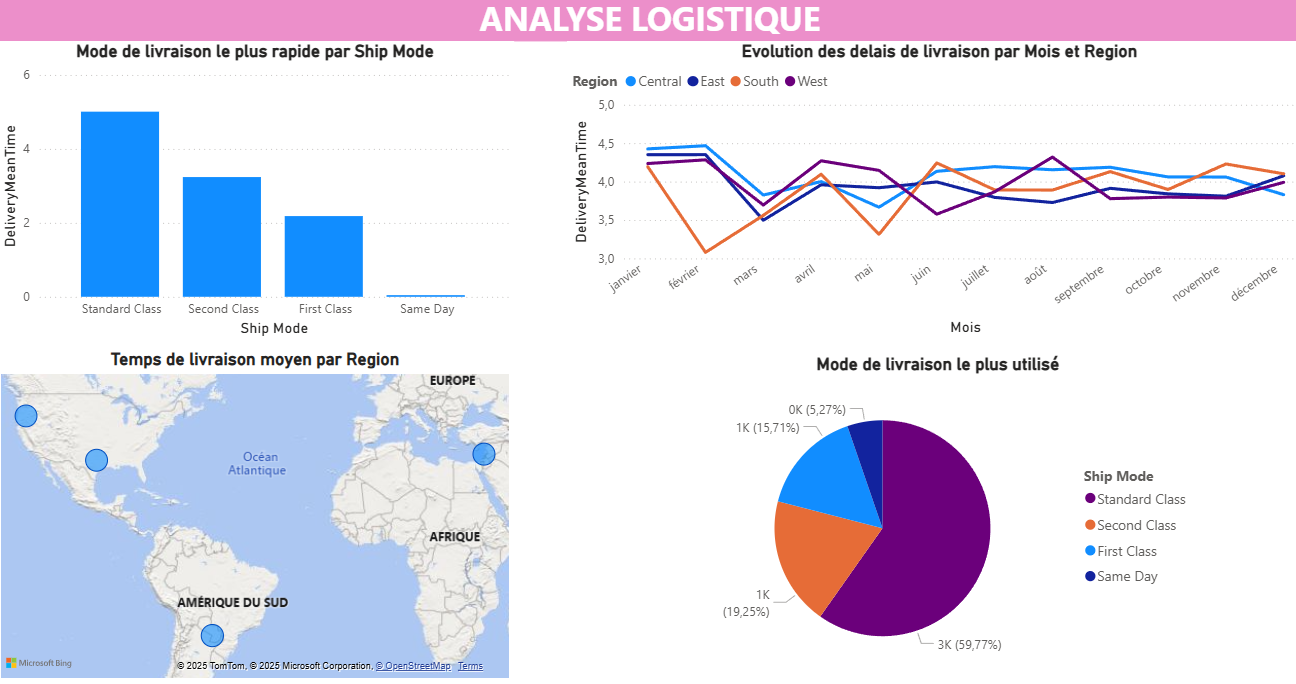

What the dashboard file says about the page in this screenshot:
{"tool":"powerbi","page":{"name":"Logistique1","canvas":[1280,720],"ordinal":5},"visuals":[{"type":"textbox","box":[0,0,1280,49.6],"z":0},{"type":"clusteredColumnChart","title":"Mode de livraison le plus rapide par Ship Mode","fields":{"Y":["DAX.DeliveryMeanTime"],"Category":["Orders.Ship Mode"]},"box":[0,49.6,503.8,291.8],"z":1},{"type":"map","title":"Temps de livraison moyen  par Region","fields":{"Size":["DAX.DeliveryMeanTime"],"Category":["People.Region"]},"box":[0,349.2,503.8,324.9],"z":2},{"type":"pieChart","title":"Mode de livraison le plus utilisé","fields":{"Category":["Orders.Ship Mode"],"Y":["DAX.TotalOrder"]},"box":[661.4,354,509.7,320],"z":3},{"type":"lineChart","title":"Evolution des delais de livraison par Mois et Region","fields":{"Category":["Orders.Ship Date.Variation.Hiérarchie de dates.Année","Orders.Ship Date.Variation.Hiérarchie de dates.Trimestre","Orders.Ship Date.Variation.Hiérarchie de dates.Mois","Orders.Ship Date.Variation.Hiérarchie de dates.Jour"],"Series":["Orders.Geographie.Region"],"Y":["DAX.DeliveryMeanTime"]},"box":[555.4,49.6,724.6,291.8],"z":4},{"type":"pageNavigator","box":[0,681.8,1280,37.9],"z":5}]}

Visuals, with their boxes on the page's 1280x720 design canvas (x1, y1, x2, y2). These are canvas units, not pixel positions in the 1296x684 screenshot, which may show the page scaled, cropped or inside an application window:
textbox: x1=0, y1=0, x2=1280, y2=50
"Mode de livraison le plus rapide par Ship Mode" clusteredColumnChart: x1=0, y1=50, x2=504, y2=341
"Temps de livraison moyen  par Region" map: x1=0, y1=349, x2=504, y2=674
"Mode de livraison le plus utilisé" pieChart: x1=661, y1=354, x2=1171, y2=674
"Evolution des delais de livraison par Mois et Region" lineChart: x1=555, y1=50, x2=1280, y2=341
pageNavigator: x1=0, y1=682, x2=1280, y2=720
